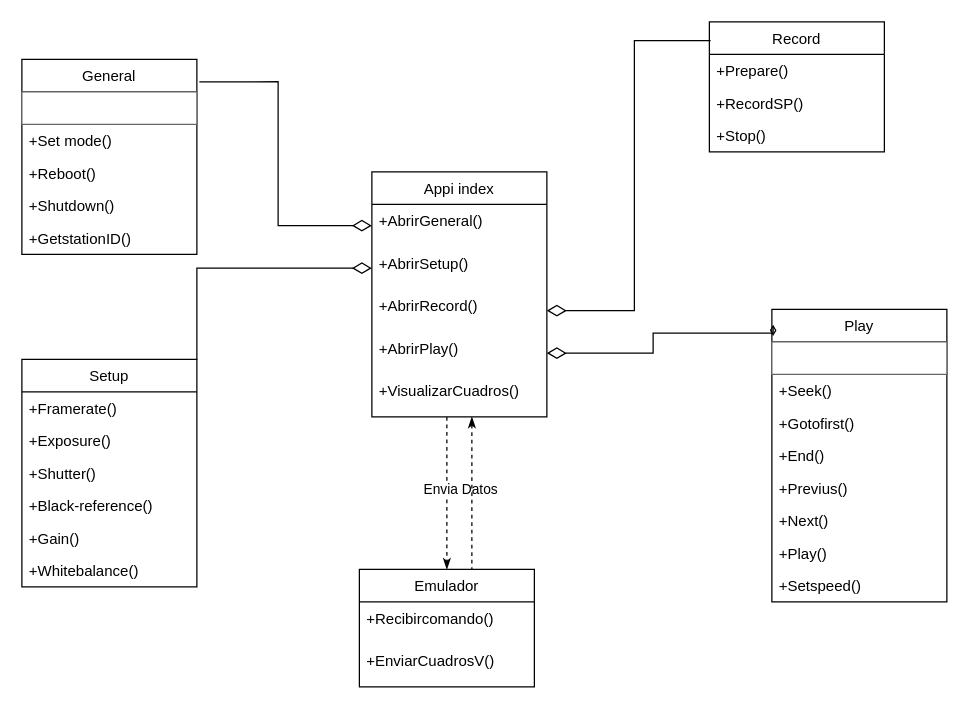
Image size: 969x713. Some labels were removed from this diagram. The shapes that lost their labels are listed below. From the top down, each one's centre as x and y in pixels, then its label:
point (109, 107): -StationID: int
point (859, 357): -Speed: float
